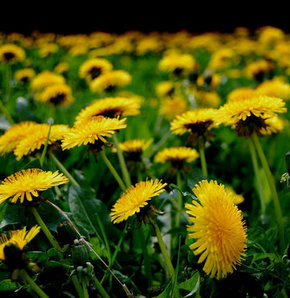begonvil: (182, 173, 251, 287), (105, 174, 170, 230), (0, 166, 74, 215), (0, 216, 45, 294), (216, 96, 289, 142), (3, 118, 66, 164), (61, 115, 124, 158), (81, 89, 140, 127), (170, 102, 220, 145), (149, 142, 200, 171), (35, 81, 74, 112)
